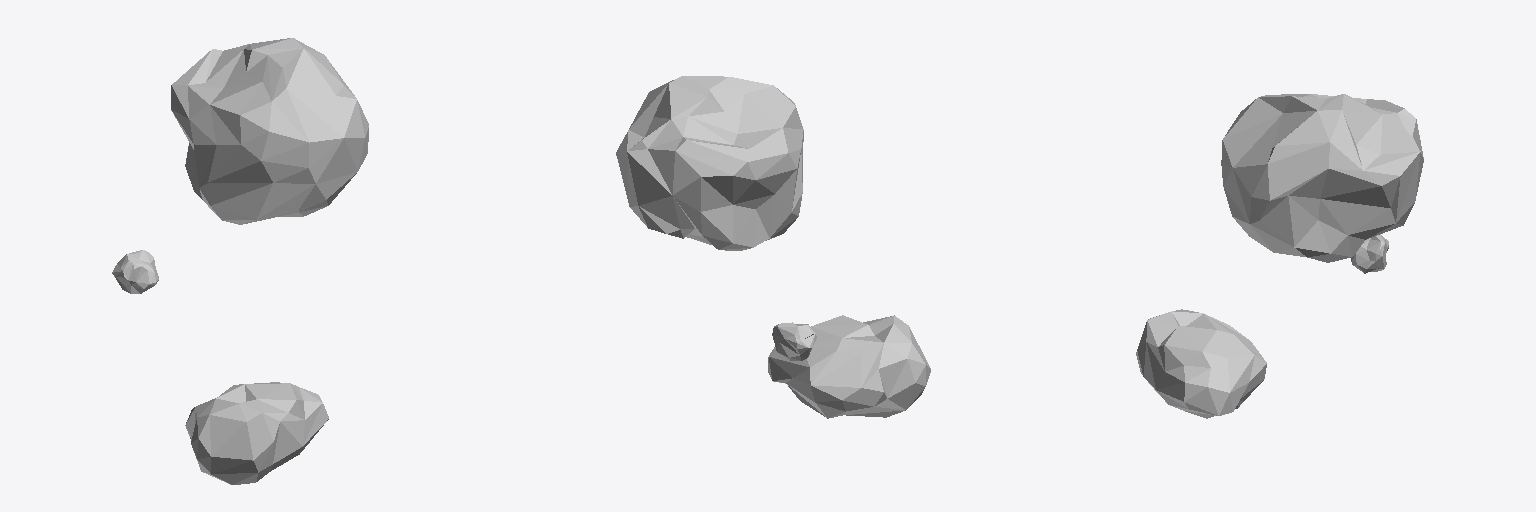
The model's file is asteroids_simplified.obj.
3 renders of one model, left to right at view 1: azimuth 30°, elevation 25°; view 2: azimuth 150°, elevation 25°; view 3: azimuth 270°, elevation 25°, orthographic.
Parts seen in each view (by area): view 1: Asteroids; view 2: Asteroids; view 3: Asteroids.
Boxes of the visible parts, x1,y1,x2,y2 form: Asteroids: [112, 38, 368, 484]; Asteroids: [616, 76, 930, 418]; Asteroids: [1136, 94, 1423, 418].
Bounding box in the file's own units: 8.1 × 12.79 × 9.33.